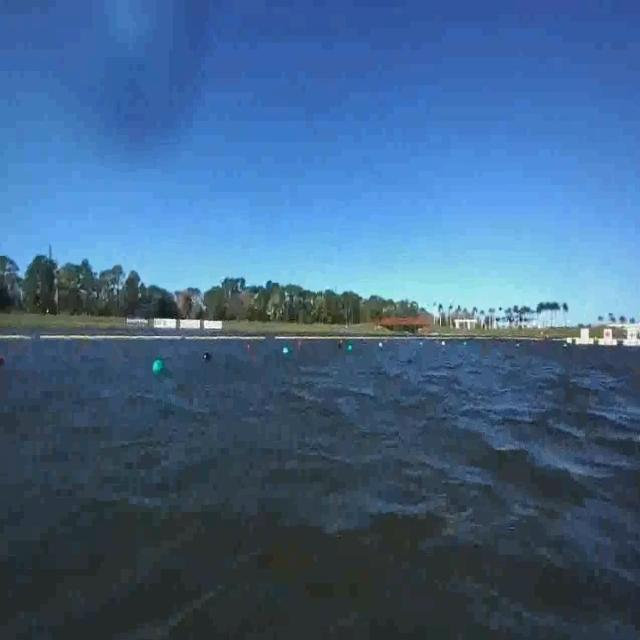green-buoy: (152, 358, 163, 373)
red-buoy: (0, 356, 5, 366)
